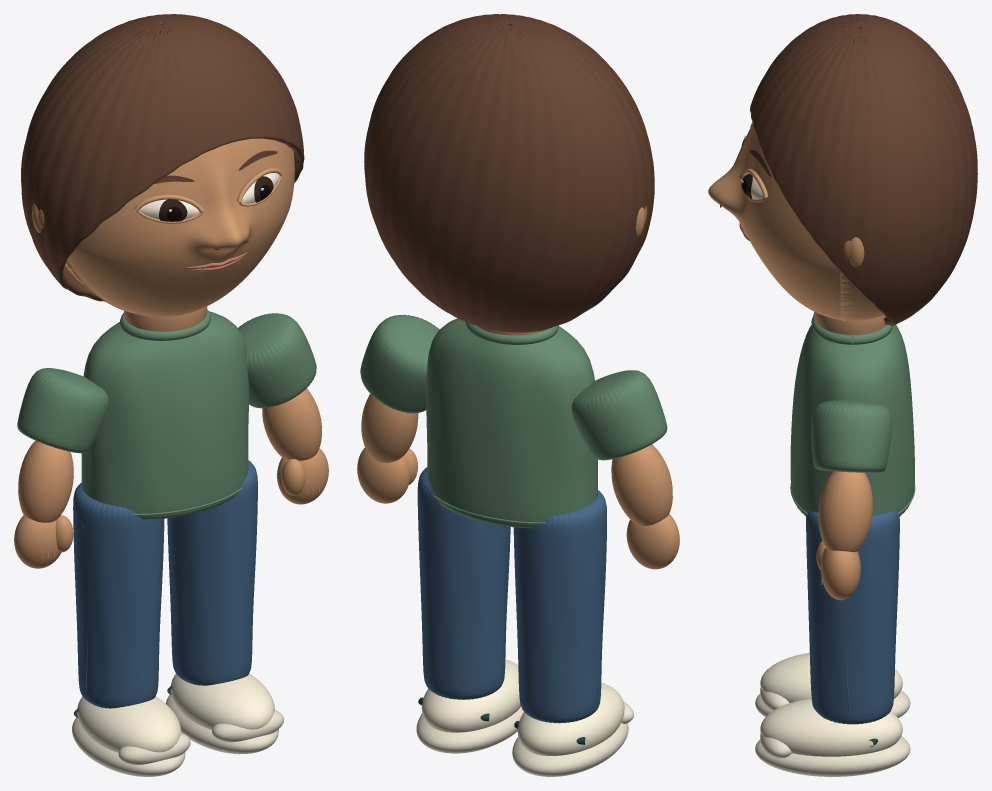
The model's file is female-bob.glb.
3 renders of one model, left to right at view 1: azimuth 30°, elevation 25°; view 2: azimuth 150°, elevation 25°; view 3: azimuth 270°, elevation 25°, orthographic. The views are drawn at different scales.
Parts seen in each view (by area): view 1: Hair | shaped continuous hairstyle.001, Cotton tee | tailored body.001, Face | continuous sculpt with nose cheeks and jaw.001, Trousers | tapered leg.002, Trousers | tapered leg.003, Tee | tailored short sleeve.002, Tee | tailored short sleeve.003, Sneaker | canvas upper.002, Sneaker | canvas upper.003, Arm | forearm.002, Arm | forearm.003, Hand | palm.002 (+9 smaller); view 2: Hair | shaped continuous hairstyle.001, Cotton tee | tailored body.001, Trousers | tapered leg.002, Trousers | tapered leg.003, Tee | tailored short sleeve.002, Tee | tailored short sleeve.003, Arm | forearm.002, Sneaker | canvas upper.002, Sneaker | canvas upper.003, Arm | forearm.003, Sneaker | rubber sole.002, Sneaker | rubber sole.003 (+3 smaller); view 3: Hair | shaped continuous hairstyle.001, Trousers | tapered leg.003, Cotton tee | tailored body.001, Face | continuous sculpt with nose cheeks and jaw.001, Tee | tailored short sleeve.003, Sneaker | canvas upper.003, Arm | forearm.003, Sneaker | rubber sole.003, Sneaker | canvas upper.002, Hand | palm.003, Neck.001, Tee | ribbed crew neck.001 (+2 smaller).
Part boxes in pixels (box(x1,y1,x2,y2)): Hair | shaped continuous hairstyle.001: box(21, 14, 304, 301); Cotton tee | tailored body.001: box(81, 311, 249, 519); Face | continuous sculpt with nose cheeks and jaw.001: box(65, 138, 294, 316); Trousers | tapered leg.002: box(73, 483, 164, 708); Trousers | tapered leg.003: box(167, 460, 257, 685); Tee | tailored short sleeve.002: box(17, 368, 108, 453); Tee | tailored short sleeve.003: box(238, 313, 316, 408); Sneaker | canvas upper.002: box(77, 696, 181, 752); Sneaker | canvas upper.003: box(171, 673, 274, 729); Arm | forearm.002: box(18, 440, 73, 522); Arm | forearm.003: box(262, 388, 321, 460); Hand | palm.002: box(14, 515, 61, 568); Hair | shaped continuous hairstyle.001: box(364, 14, 654, 332); Cotton tee | tailored body.001: box(426, 318, 597, 528); Trousers | tapered leg.002: box(513, 490, 606, 723); Trousers | tapered leg.003: box(417, 467, 510, 699); Tee | tailored short sleeve.002: box(571, 370, 667, 460); Tee | tailored short sleeve.003: box(360, 314, 439, 413); Arm | forearm.002: box(611, 444, 672, 525); Sneaker | canvas upper.002: box(517, 683, 624, 755); Sneaker | canvas upper.003: box(421, 659, 520, 732); Arm | forearm.003: box(361, 393, 418, 462); Sneaker | rubber sole.002: box(512, 723, 628, 776); Sneaker | rubber sole.003: box(416, 706, 523, 753); Hair | shaped continuous hairstyle.001: box(750, 14, 977, 325); Trousers | tapered leg.003: box(806, 511, 899, 724); Cotton tee | tailored body.001: box(790, 325, 914, 516); Face | continuous sculpt with nose cheeks and jaw.001: box(708, 123, 884, 320); Tee | tailored short sleeve.003: box(811, 399, 891, 472); Sneaker | canvas upper.003: box(760, 698, 902, 756); Arm | forearm.003: box(818, 471, 872, 552); Sneaker | rubber sole.003: box(755, 736, 910, 776); Sneaker | canvas upper.002: box(760, 653, 902, 702); Hand | palm.003: box(820, 548, 860, 600); Neck.001: box(814, 311, 886, 339); Tee | ribbed crew neck.001: box(811, 314, 893, 344).
Bounding box in the file's own units: 1.13 × 2.49 × 0.8466.
